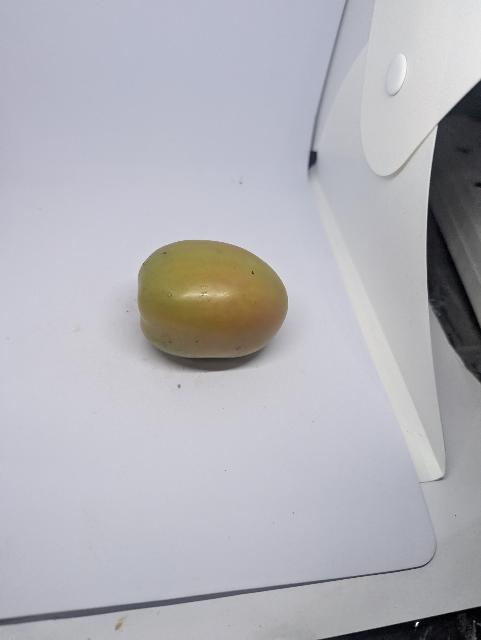breaker: (131, 239, 290, 367)
